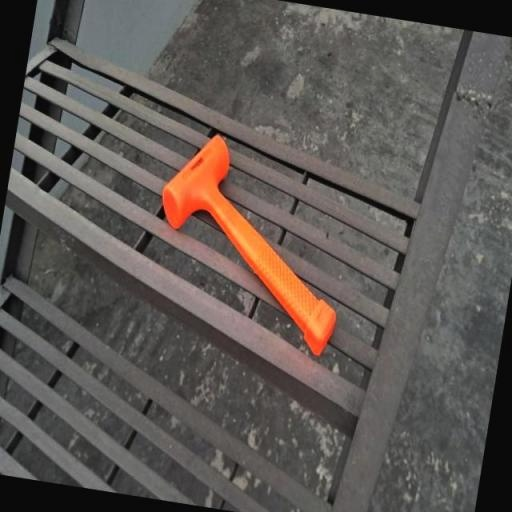mallet: (142, 129, 362, 358)
